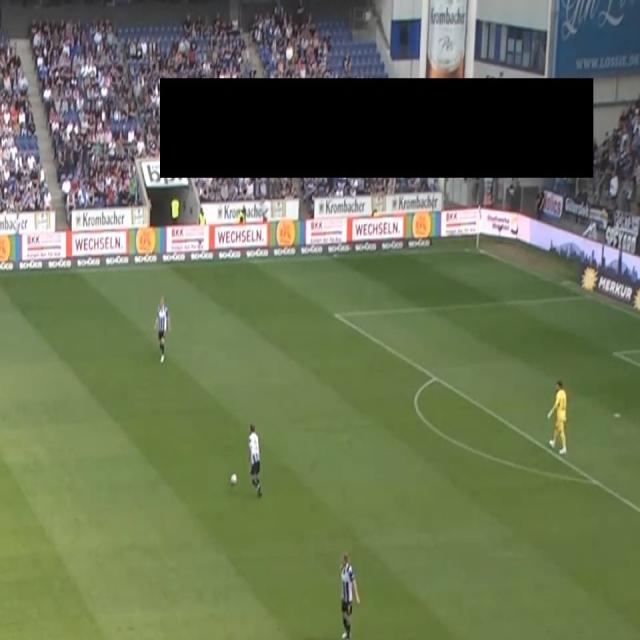ball: (230, 473, 238, 487)
